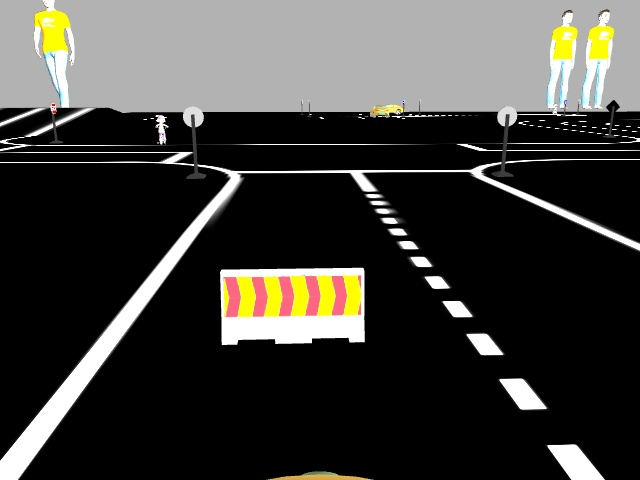ClosedRoadStand: (220, 269, 364, 340)
